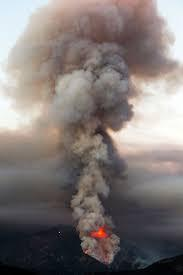fire: (86, 224, 113, 242)
yanwu: (3, 0, 179, 110), (51, 49, 136, 265)
